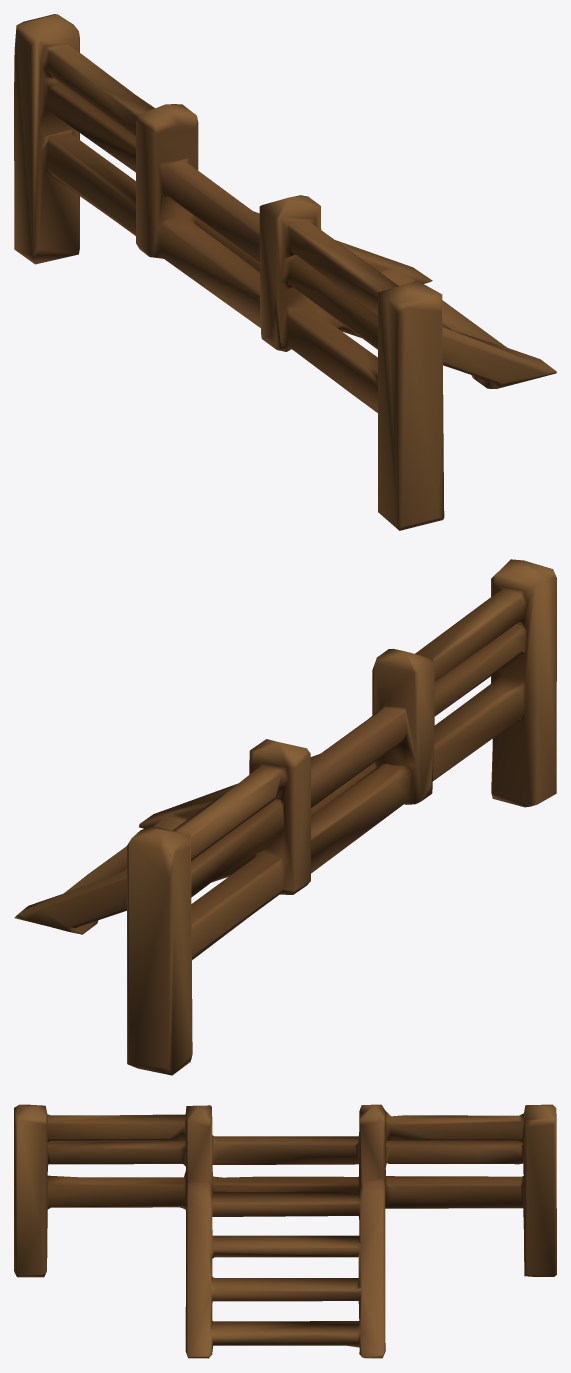
File: gen3d-wooden-stile-lod1.glb
The picture shows the model from 3 angles, top to bottom: view 1: azimuth 30°, elevation 25°; view 2: azimuth 150°, elevation 25°; view 3: azimuth 270°, elevation 25°; orthographic projection. The views are drawn at different scales.
Visible parts, largest first — view 1: part_0; view 2: part_0; view 3: part_0.
Boxes of the visible parts, x1=… form: part_0: x1=14, y1=14, x2=556, y2=530; part_0: x1=14, y1=559, x2=556, y2=1075; part_0: x1=14, y1=1104, x2=556, y2=1358.
Size of the model in its own units: 1.24 by 0.9911 by 2.95.
